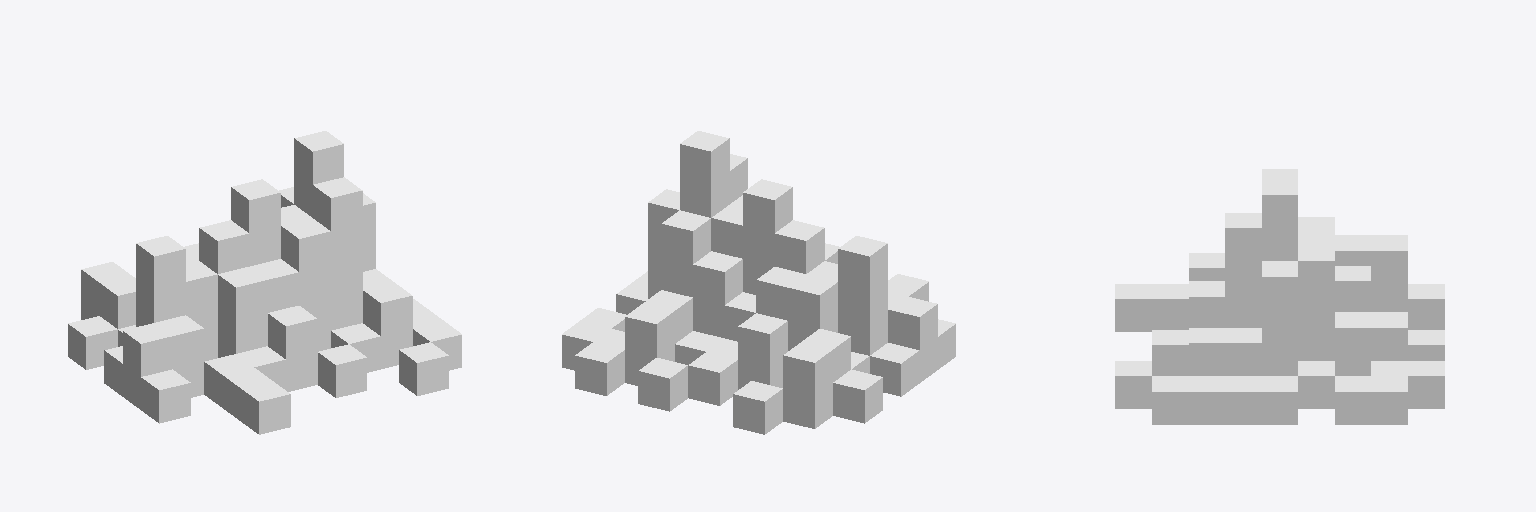
The model's file is UI_tilemodel02.obj.
3 renders of one model, left to right at view 1: azimuth 30°, elevation 25°; view 2: azimuth 150°, elevation 25°; view 3: azimuth 270°, elevation 25°, orthographic.
Size of the model in its own units: 9 by 6 by 9.